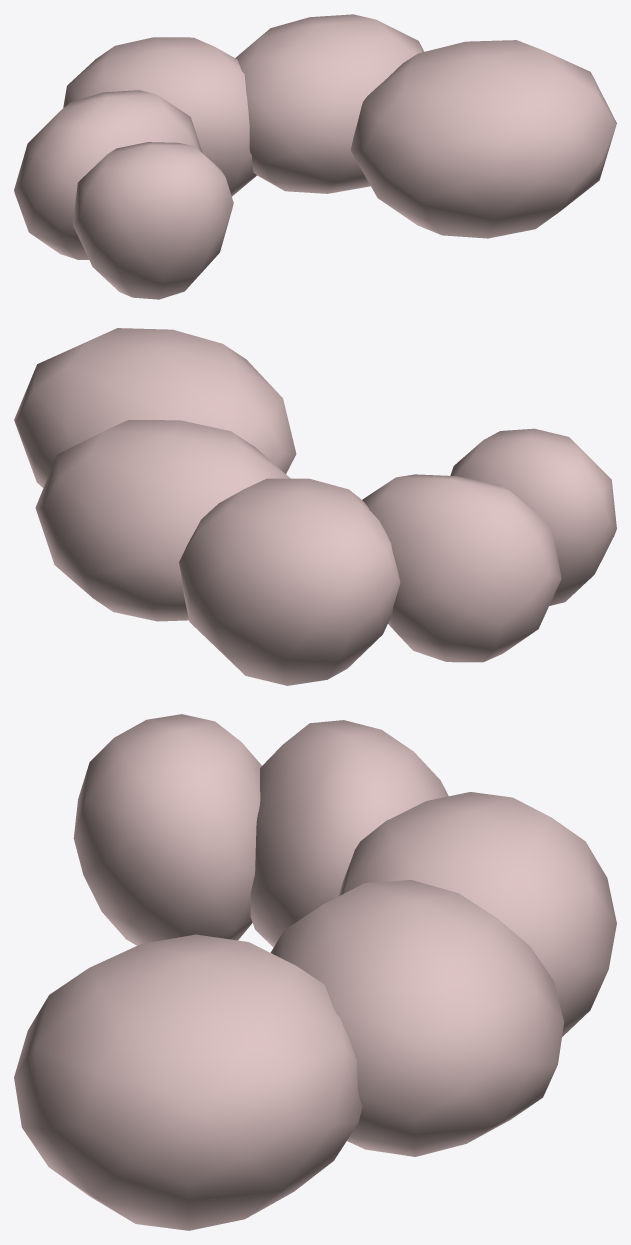
The model's file is snail_meat.glb.
The picture shows the model from 3 angles, top to bottom: view 1: azimuth 30°, elevation 25°; view 2: azimuth 150°, elevation 25°; view 3: azimuth 270°, elevation 25°; orthographic projection. The views are drawn at different scales.
Visible parts, largest first — view 1: model; view 2: model; view 3: model.
Part boxes in pixels (bbox=[...]): model: bbox=[14, 14, 616, 299]; model: bbox=[14, 328, 616, 685]; model: bbox=[14, 714, 616, 1230].
Size of the model in its own units: 0.1474 by 0.0463 by 0.1006.
